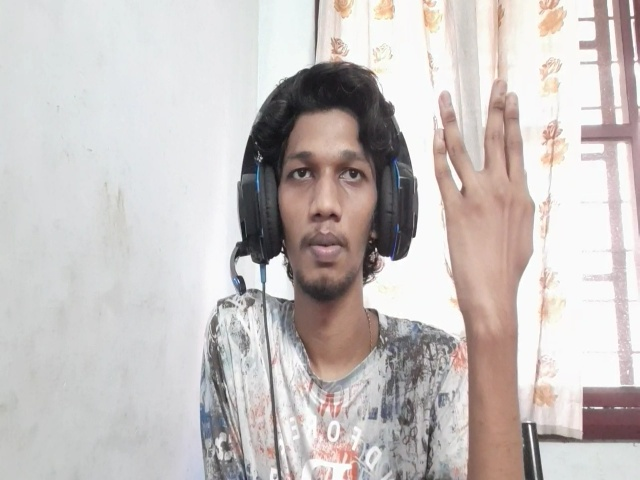LiveLong: (433, 80, 536, 318)
